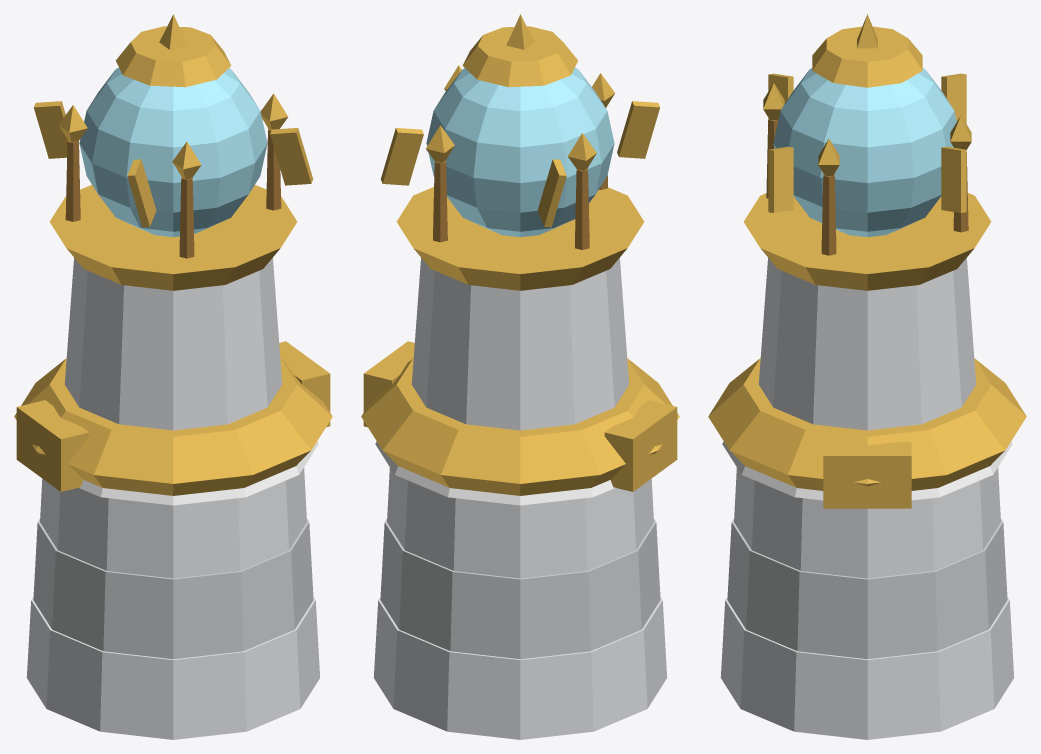
File: tower_tesla_l3.glb
3 renders of one model, left to right at view 1: azimuth 30°, elevation 25°; view 2: azimuth 150°, elevation 25°; view 3: azimuth 270°, elevation 25°, orthographic.
Visible parts, largest first — view 1: tower_tesla_l3; view 2: tower_tesla_l3; view 3: tower_tesla_l3.
Part boxes in pixels (bbox=[...]): tower_tesla_l3: bbox=[14, 14, 332, 739]; tower_tesla_l3: bbox=[361, 14, 679, 739]; tower_tesla_l3: bbox=[708, 14, 1026, 739].
Bounding box in the file's own units: 0.63 × 1.45 × 0.63.
